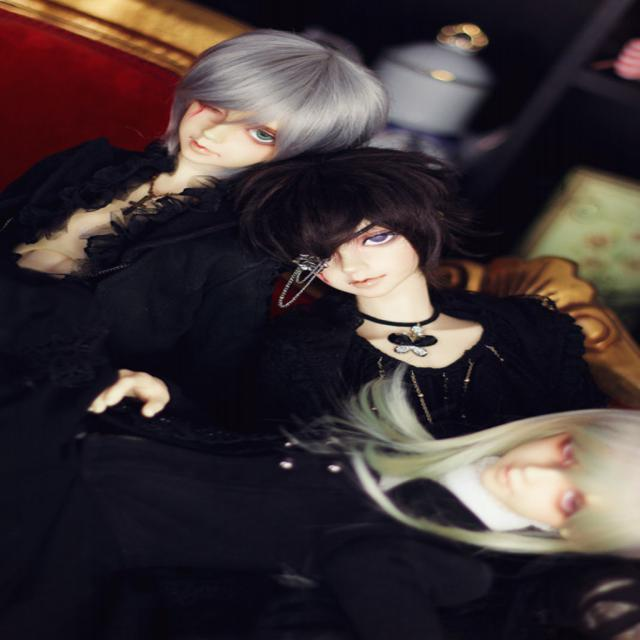closed-mouth: (347, 272, 390, 288)
